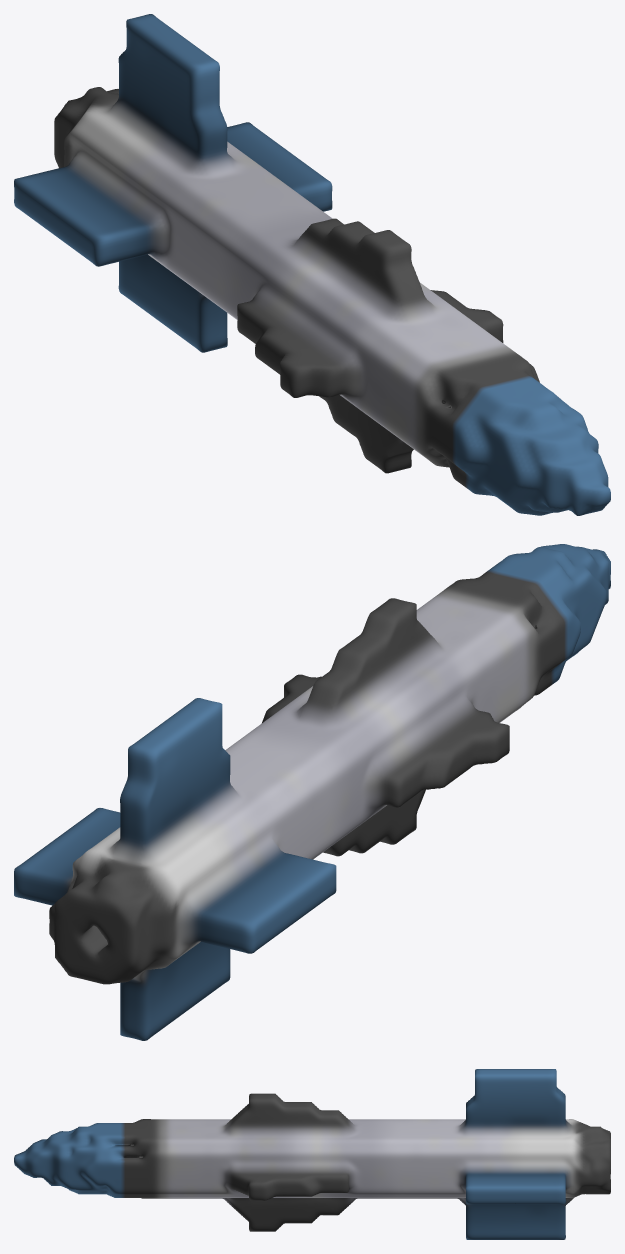
File: v3_rocket.glb
3 renders of one model, top to bottom at view 1: azimuth 30°, elevation 25°; view 2: azimuth 150°, elevation 25°; view 3: azimuth 270°, elevation 25°, orthographic. The views are drawn at different scales.
Visible parts, largest first — view 1: v3_rocket; view 2: v3_rocket; view 3: v3_rocket.
Boxes of the visible parts, <box> form: v3_rocket: <box>14,14,610,515</box>; v3_rocket: <box>14,544,610,1040</box>; v3_rocket: <box>14,1069,610,1239</box>.
Bounding box in the file's own units: 1.47 × 1.66 × 5.45.
